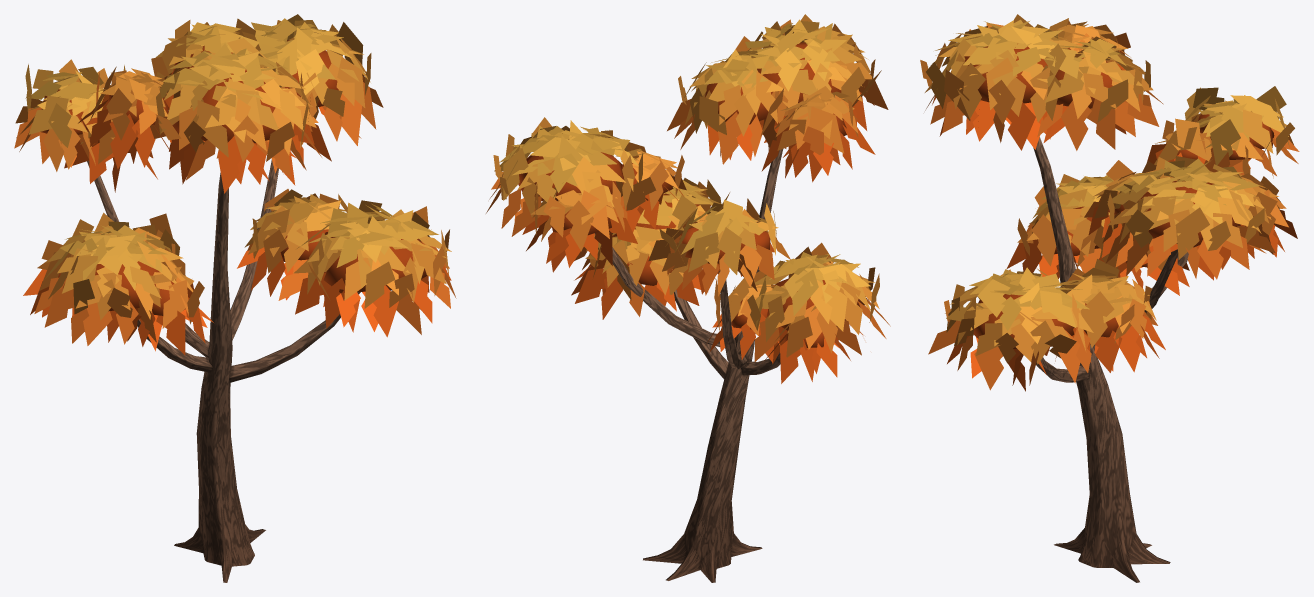
The model's file is tree_1_autumn.glb.
3 renders of one model, left to right at view 1: azimuth 30°, elevation 25°; view 2: azimuth 150°, elevation 25°; view 3: azimuth 270°, elevation 25°, orthographic. The views are drawn at different scales.
Visible parts, largest first — view 1: tree_1_autumn; view 2: tree_1_autumn; view 3: tree_1_autumn.
Boxes of the visible parts, x1,y1,x2,y2 form: tree_1_autumn: [14, 14, 456, 582]; tree_1_autumn: [486, 14, 890, 582]; tree_1_autumn: [920, 14, 1299, 582].
Size of the model in its own units: 4.9 by 7 by 4.7.
Materials: 2 (2 with a texture image).
